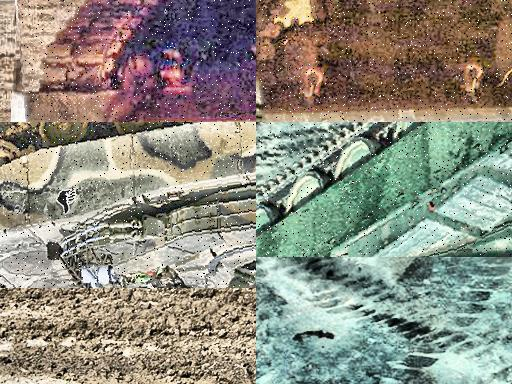tanks: (1, 123, 257, 289), (257, 123, 512, 258), (257, 1, 512, 123), (23, 1, 257, 123)
